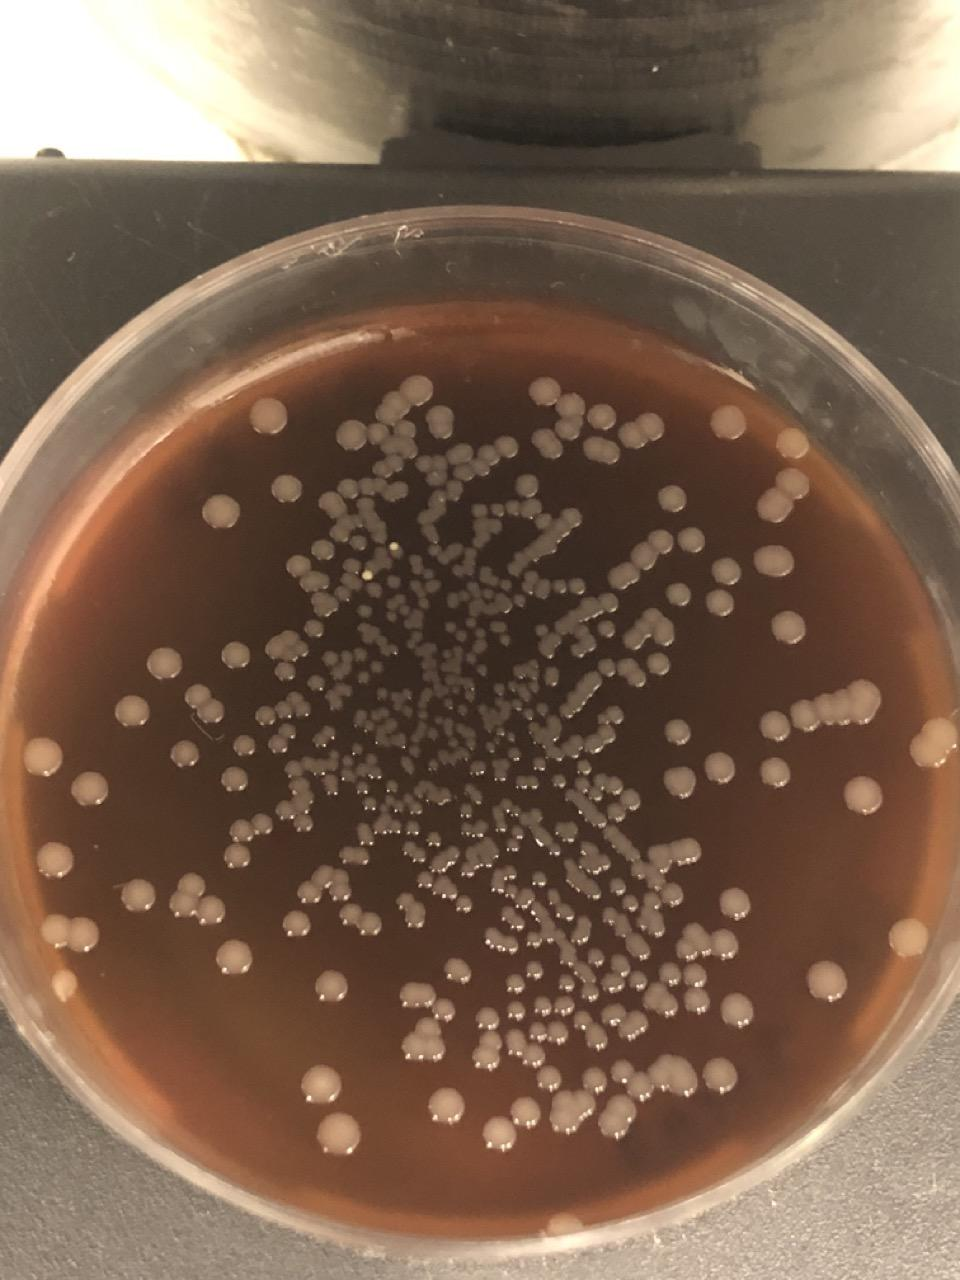assalmonicida: (758, 677, 882, 744), (549, 732, 641, 822), (606, 524, 708, 592), (335, 402, 418, 478), (398, 981, 460, 1062), (596, 1058, 657, 1140), (654, 934, 710, 1018), (287, 556, 343, 638), (530, 378, 586, 460), (550, 1066, 610, 1134), (556, 656, 619, 720), (572, 1001, 651, 1052), (506, 1022, 561, 1094), (256, 690, 312, 754), (482, 1094, 543, 1152), (169, 870, 227, 926), (455, 434, 519, 481), (334, 645, 387, 699), (758, 467, 810, 522), (608, 876, 686, 912), (702, 554, 743, 621), (909, 716, 959, 770), (352, 763, 404, 814), (264, 628, 311, 680), (42, 914, 99, 951), (472, 1004, 502, 1072), (619, 410, 665, 450), (318, 1114, 360, 1156), (699, 1055, 741, 1097), (716, 990, 758, 1032), (310, 964, 352, 1006), (887, 916, 929, 958), (841, 774, 883, 816), (20, 735, 62, 777), (184, 684, 226, 726), (623, 606, 663, 650), (338, 900, 385, 937), (301, 1062, 342, 1104), (215, 939, 257, 980), (33, 839, 75, 880), (69, 770, 111, 811), (806, 962, 846, 1004), (426, 1086, 466, 1126), (754, 542, 794, 582), (201, 492, 241, 532), (772, 424, 812, 464), (247, 396, 287, 436), (710, 402, 748, 442), (532, 574, 588, 600), (276, 796, 312, 833), (462, 636, 492, 680), (706, 926, 742, 962), (115, 695, 151, 730), (268, 471, 304, 506), (146, 648, 182, 682), (506, 962, 544, 994), (718, 887, 752, 922), (663, 764, 697, 798), (758, 754, 792, 788), (399, 372, 433, 406), (120, 879, 154, 912), (702, 750, 736, 783), (772, 610, 806, 642), (661, 716, 694, 748), (365, 572, 405, 598), (663, 578, 695, 610), (544, 887, 573, 922), (586, 402, 618, 433), (599, 906, 632, 936), (605, 955, 631, 993), (428, 404, 453, 442), (656, 484, 687, 514), (484, 930, 520, 954), (518, 699, 554, 723), (555, 974, 576, 1015), (497, 904, 527, 932), (512, 472, 542, 500), (470, 500, 508, 522), (220, 842, 248, 871), (311, 724, 340, 752), (50, 969, 78, 997), (444, 955, 472, 983), (282, 909, 310, 937), (220, 764, 248, 792), (170, 738, 198, 766), (232, 731, 260, 759), (645, 649, 673, 677), (222, 640, 250, 668), (501, 861, 521, 900), (431, 846, 461, 872), (676, 834, 704, 861), (669, 1068, 697, 1094), (647, 844, 675, 870), (414, 454, 448, 474), (400, 839, 428, 862), (347, 738, 368, 758), (352, 534, 373, 554), (549, 1023, 569, 1043), (506, 1001, 526, 1021), (531, 996, 551, 1016), (579, 984, 599, 1004), (629, 970, 649, 990), (575, 914, 595, 934), (454, 895, 474, 915), (529, 870, 549, 890), (284, 760, 304, 780), (529, 754, 549, 774), (504, 744, 524, 764), (390, 730, 410, 750), (370, 684, 390, 704), (308, 672, 328, 692), (318, 646, 338, 666), (496, 630, 516, 650), (596, 618, 616, 638), (356, 600, 376, 620), (342, 554, 362, 574), (312, 538, 332, 558), (470, 760, 489, 780), (453, 701, 473, 720), (338, 478, 358, 497), (586, 948, 606, 966), (559, 948, 579, 966), (232, 820, 250, 840), (254, 813, 272, 833), (606, 706, 626, 724), (530, 620, 550, 638), (395, 894, 414, 912), (585, 880, 603, 899), (416, 870, 434, 889), (331, 866, 350, 884), (594, 852, 612, 871), (360, 829, 378, 848), (404, 818, 422, 836), (390, 481, 408, 499), (474, 820, 491, 839), (426, 830, 442, 849)
